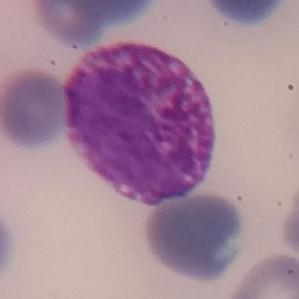Basophil: (60, 34, 223, 206)
RBC: (146, 191, 244, 277), (0, 66, 70, 150), (32, 0, 110, 48), (226, 252, 299, 298), (63, 1, 159, 29), (200, 0, 294, 28), (279, 178, 299, 262), (0, 205, 17, 286)
